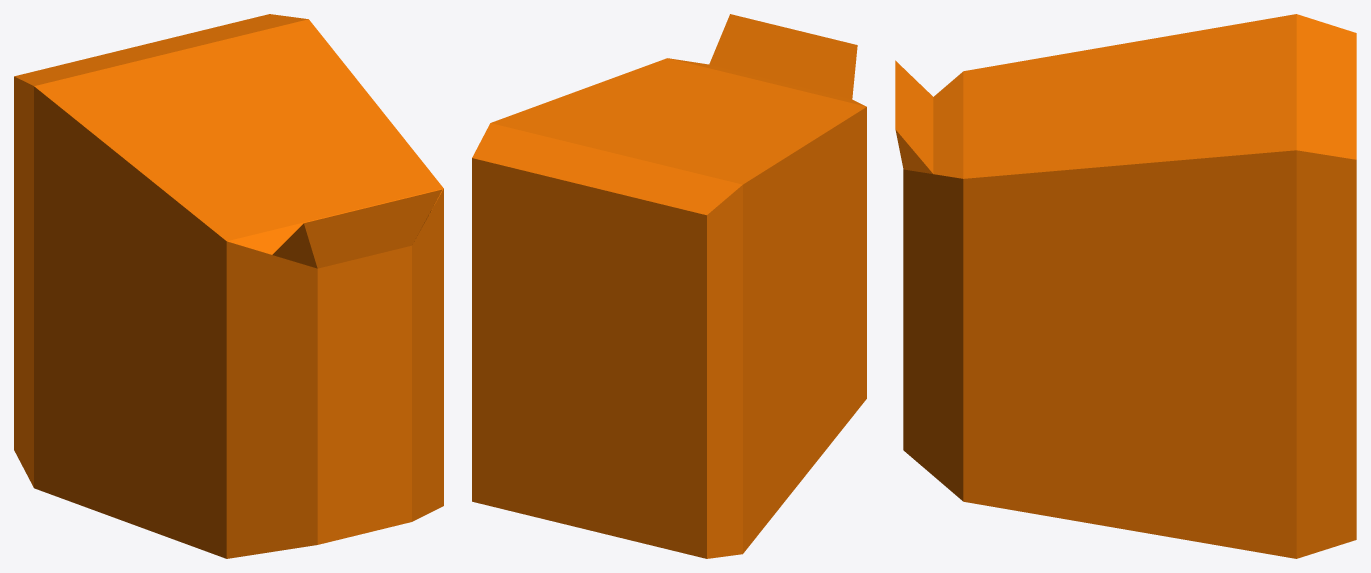
Rendered from bag.obj.
The picture shows the model from 3 angles, left to right: view 1: azimuth 30°, elevation 25°; view 2: azimuth 150°, elevation 25°; view 3: azimuth 270°, elevation 25°; orthographic projection. The views are drawn at different scales.
Visible parts, largest first — view 1: bag.000_bag.000; view 2: bag.000_bag.000; view 3: bag.000_bag.000.
Boxes of the visible parts, x1,y1,x2,y2 form: bag.000_bag.000: (14,14,443,558); bag.000_bag.000: (472,14,866,558); bag.000_bag.000: (895,14,1356,558).
Size of the model in its own units: 0.1101 by 0.1539 by 0.1574.
